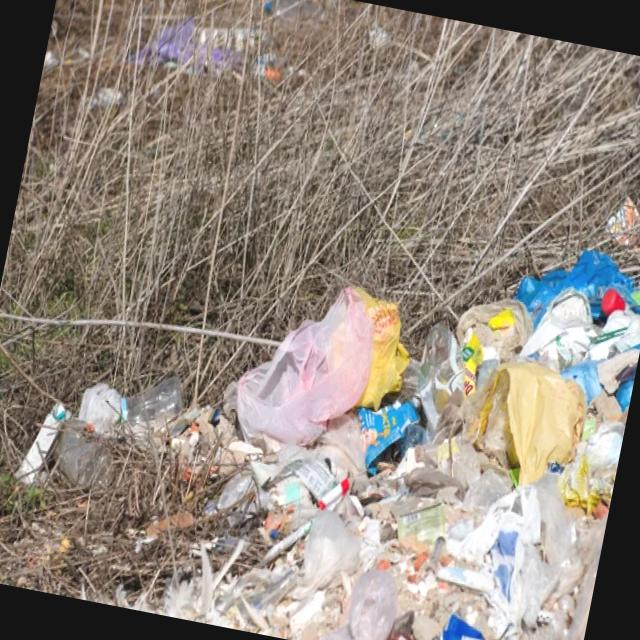garbage: (169, 181, 640, 640)
